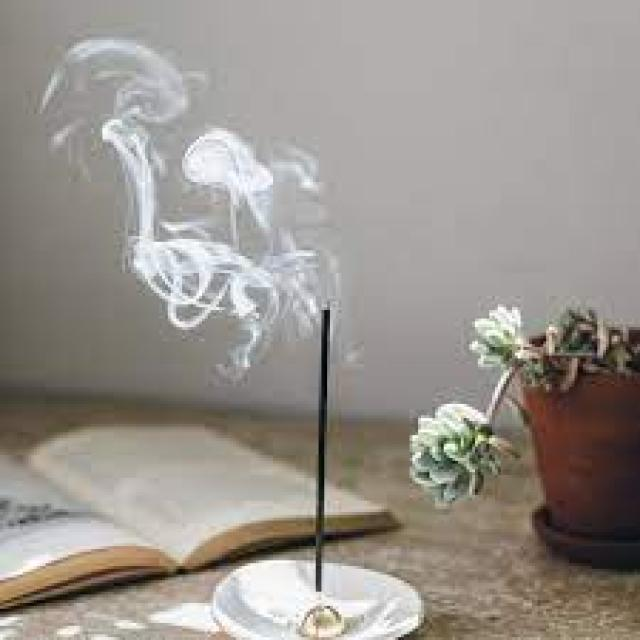Agarbatti: (305, 287, 351, 599)
